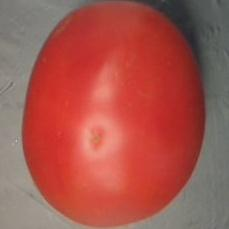unripe: (16, 0, 211, 229)
